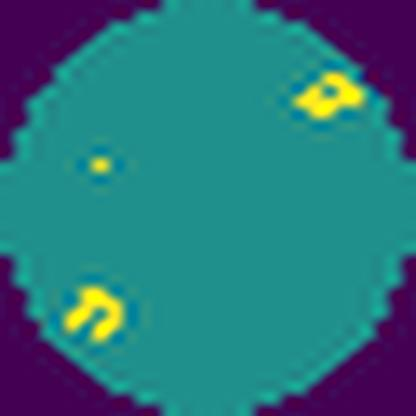Loc: (59, 280, 128, 349), (291, 66, 367, 124)
